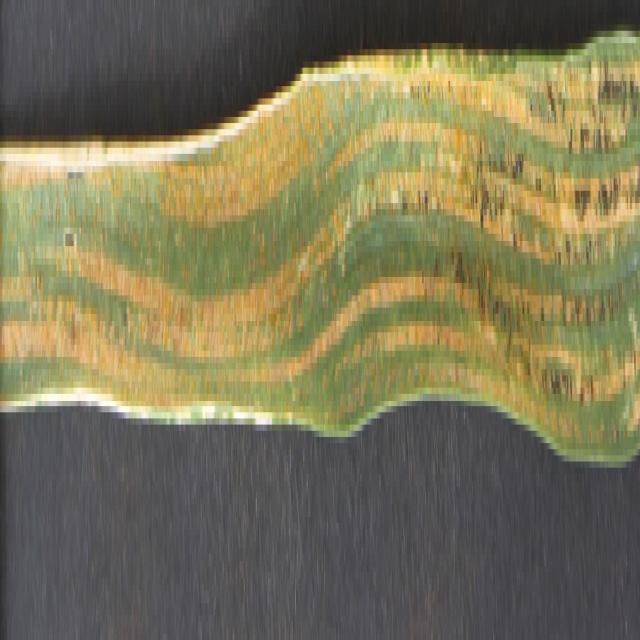leaf rust: (1, 24, 638, 424)
